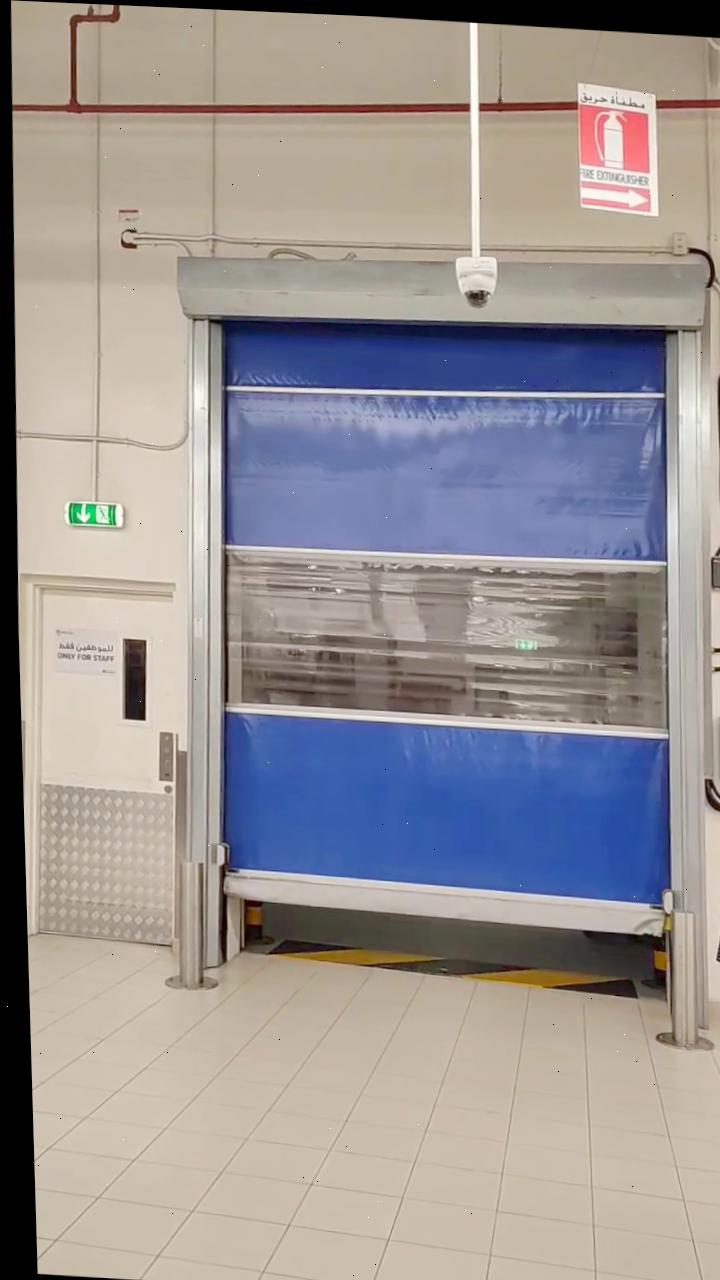Strip: (271, 927, 629, 1001)
